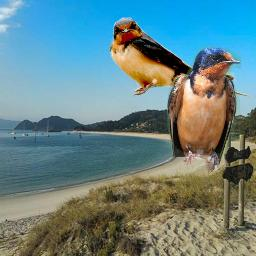Swallow: (108, 17, 251, 104), (167, 46, 241, 173)
